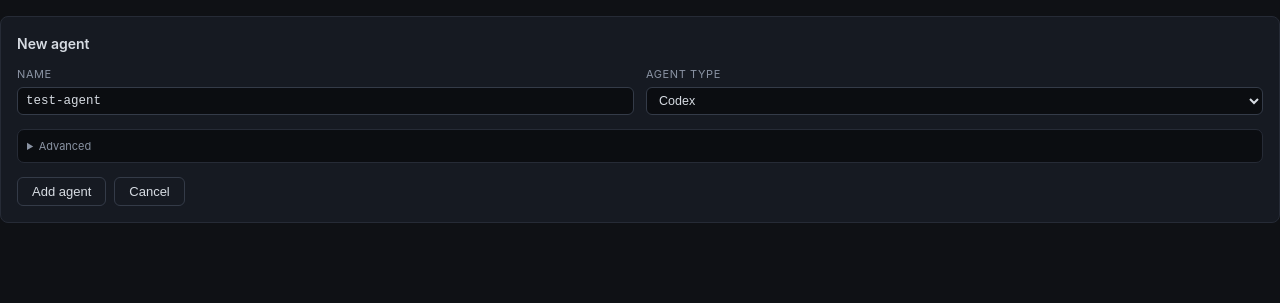
Test: AgentForm environment validation › keeps existing command validation
What coordinates should you click on to do the following:
click the button "Add agent"
I would click on:
 (62, 192)
Its box is x1=17 y1=177 x2=106 y2=206.
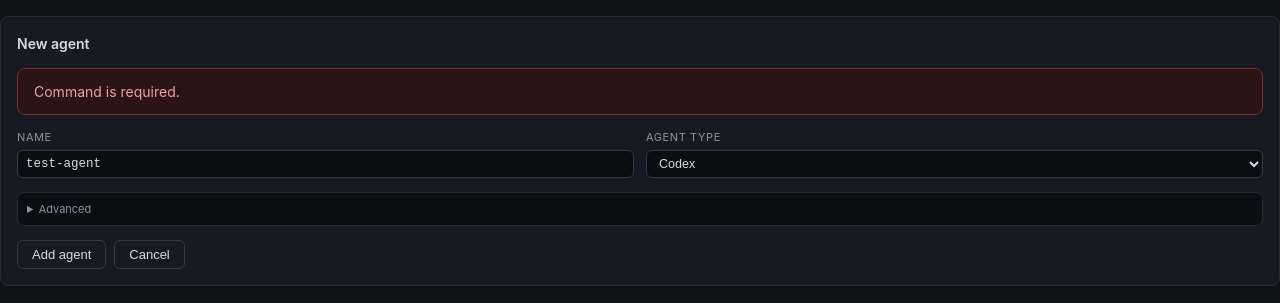
Check: the message reads "Command is required.", box x1=34 y1=83 x2=180 y2=100
